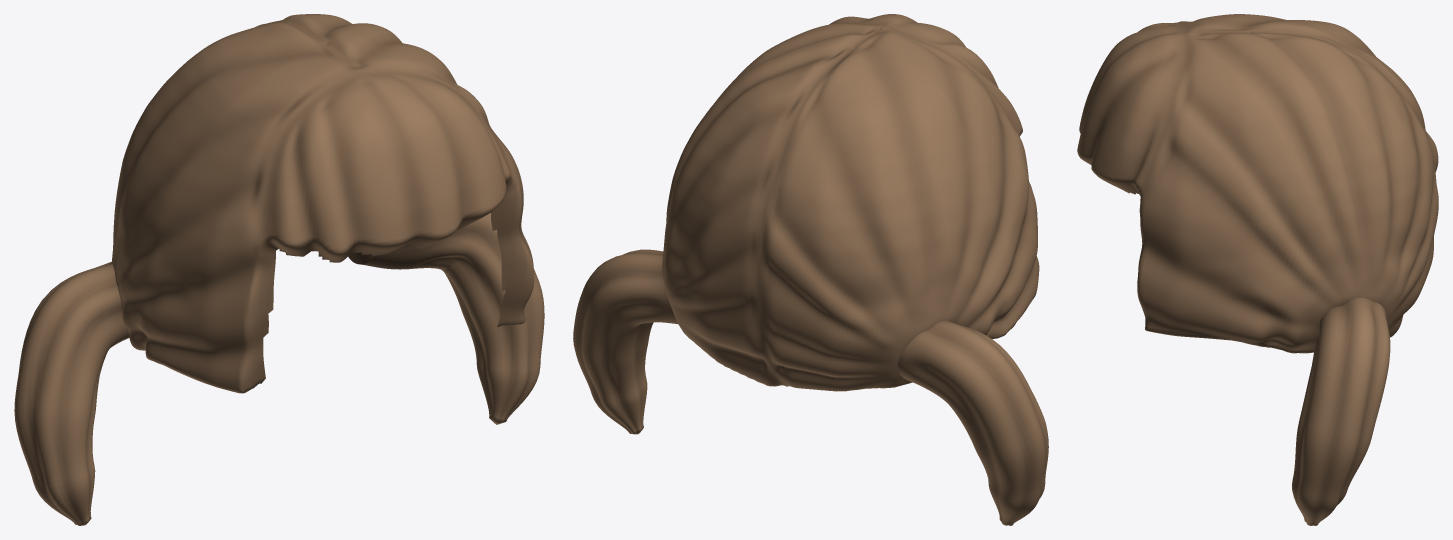
File: pigtails.gltf
3 renders of one model, left to right at view 1: azimuth 30°, elevation 25°; view 2: azimuth 150°, elevation 25°; view 3: azimuth 270°, elevation 25°, orthographic. The views are drawn at different scales.
Visible parts, largest first — view 1: Hair_pigtails; view 2: Hair_pigtails; view 3: Hair_pigtails.
Boxes of the visible parts, box(x1,y1,x2,y2) form: Hair_pigtails: box(14, 14, 544, 525); Hair_pigtails: box(573, 14, 1048, 525); Hair_pigtails: box(1077, 14, 1438, 525).
Size of the model in its own units: 0.6759 by 0.5746 by 0.4624.
